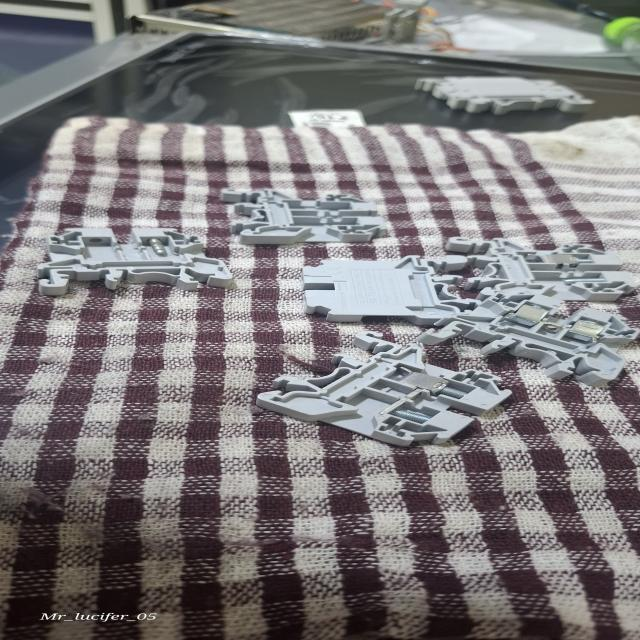Inverted: (302, 255, 479, 324)
Pass: (427, 292, 636, 383)
Reject: (258, 331, 516, 447), (38, 227, 233, 293), (448, 236, 631, 300), (224, 188, 388, 243)
